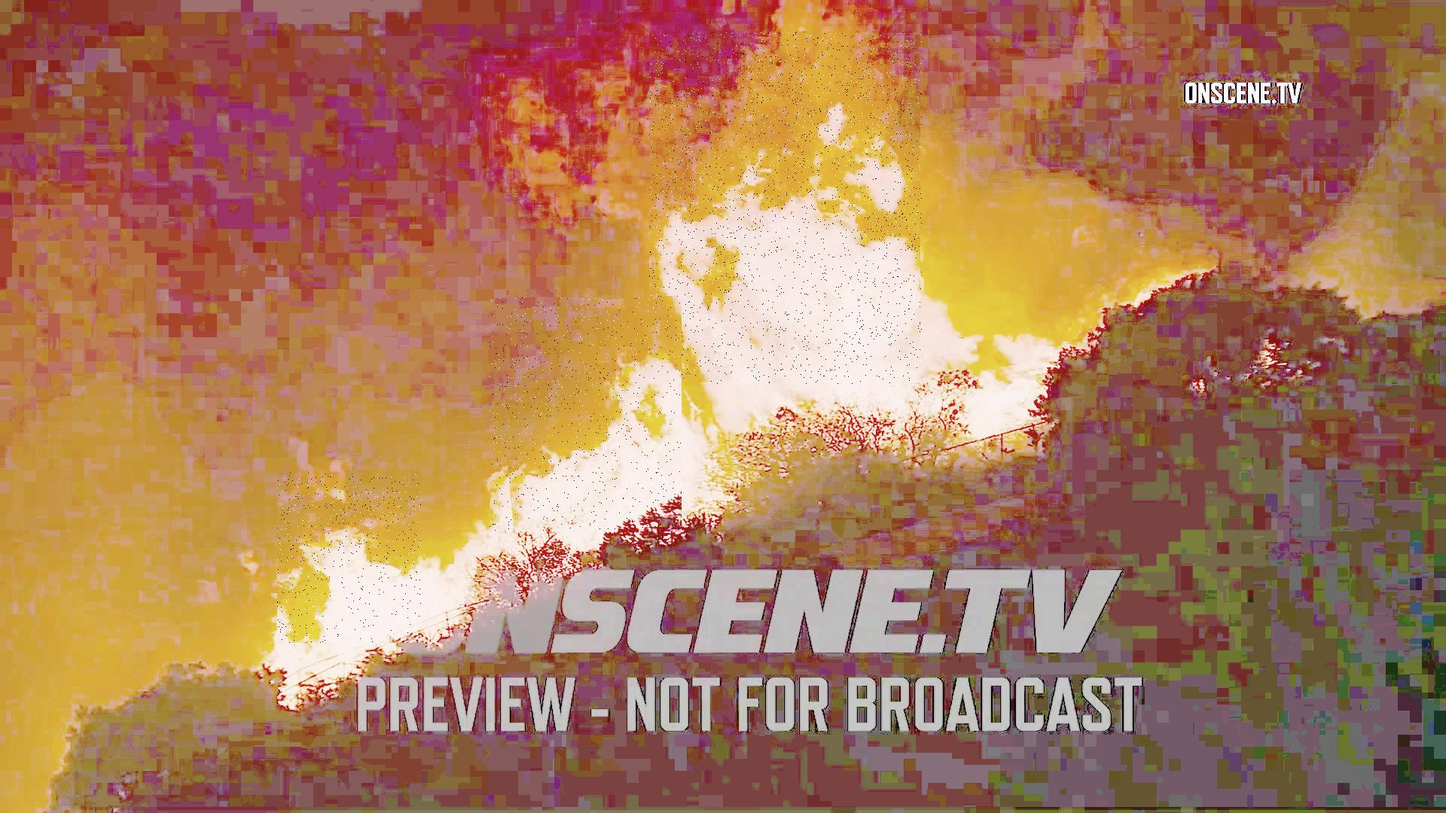fire: (650, 32, 923, 384), (490, 298, 682, 531), (277, 473, 421, 643)
